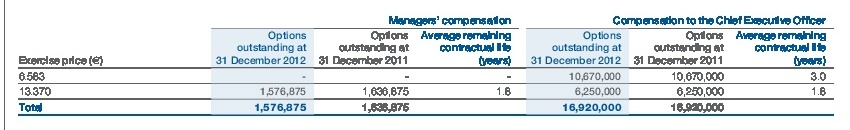table: (0, 0, 850, 130)
